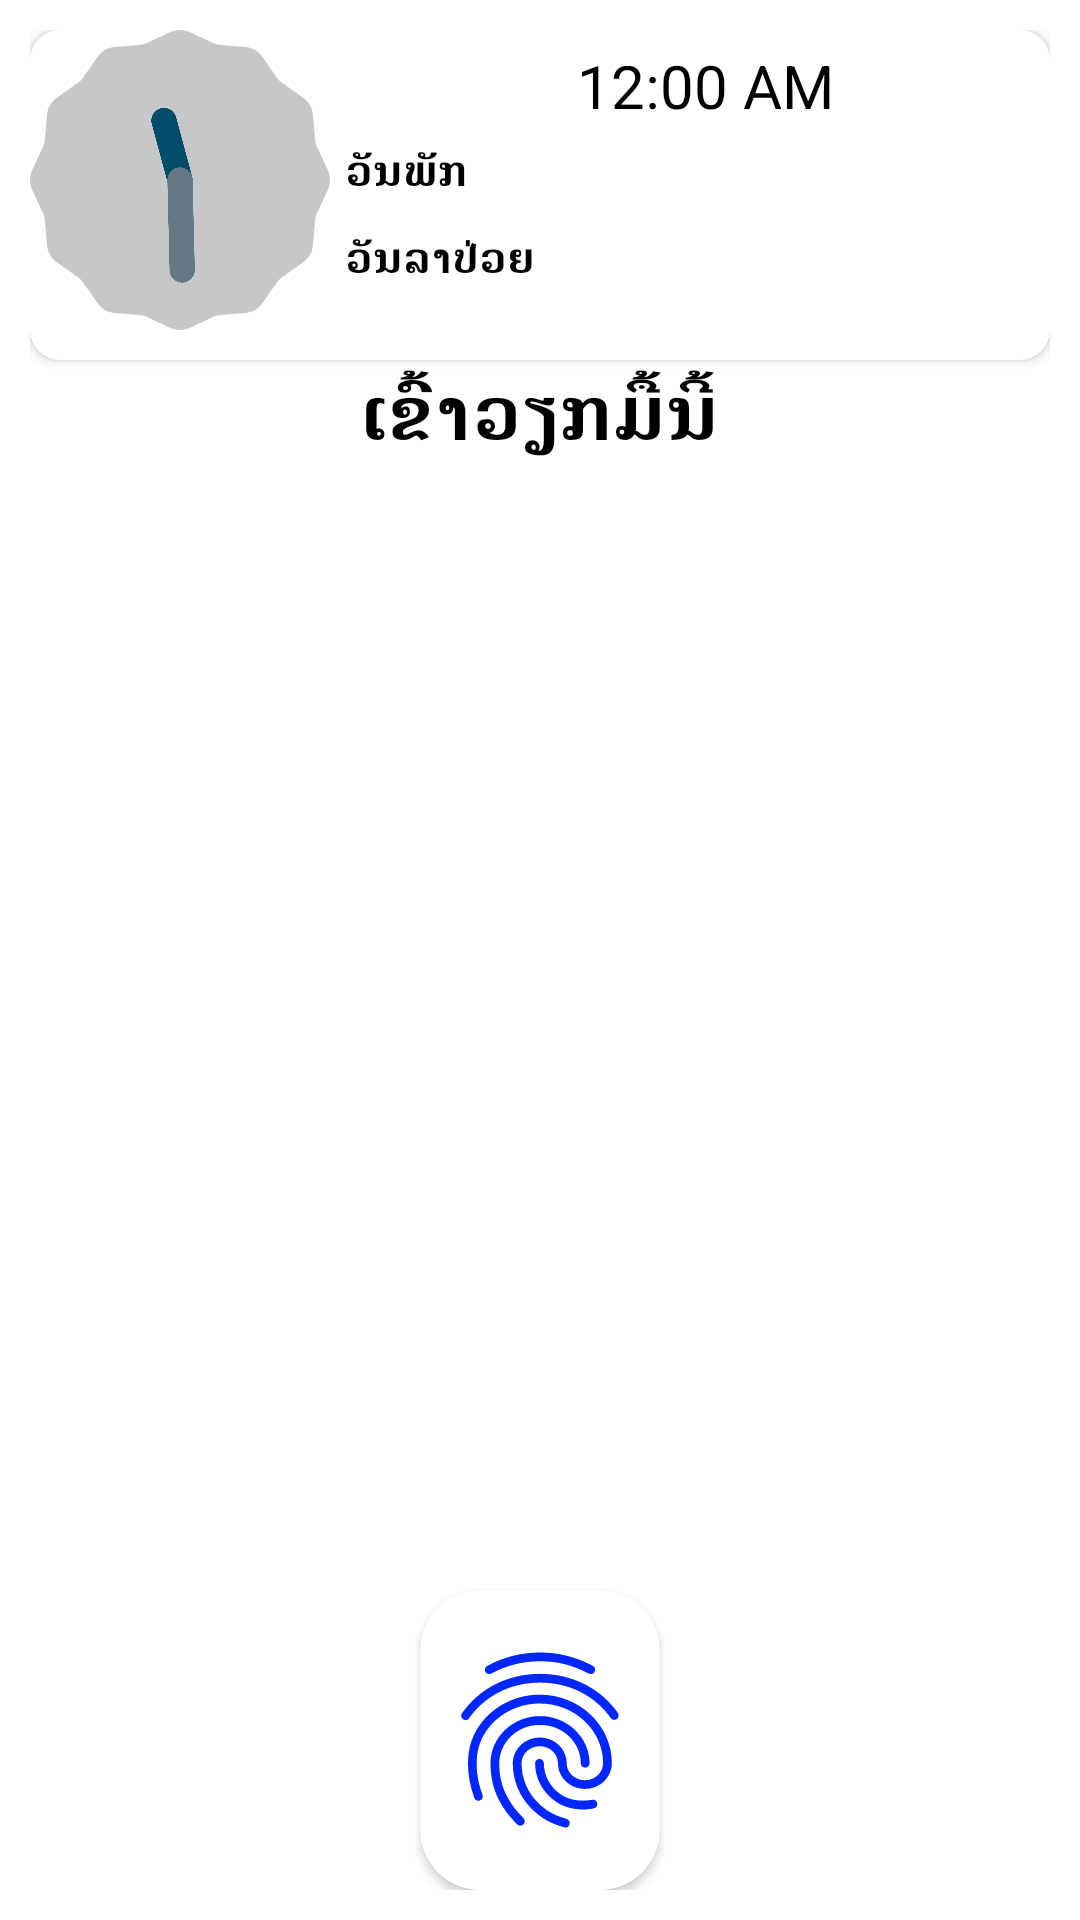

Icon click points for this 1080x1920 phone screenshot, format [x,y]:
fingerprint: [540,1771]
